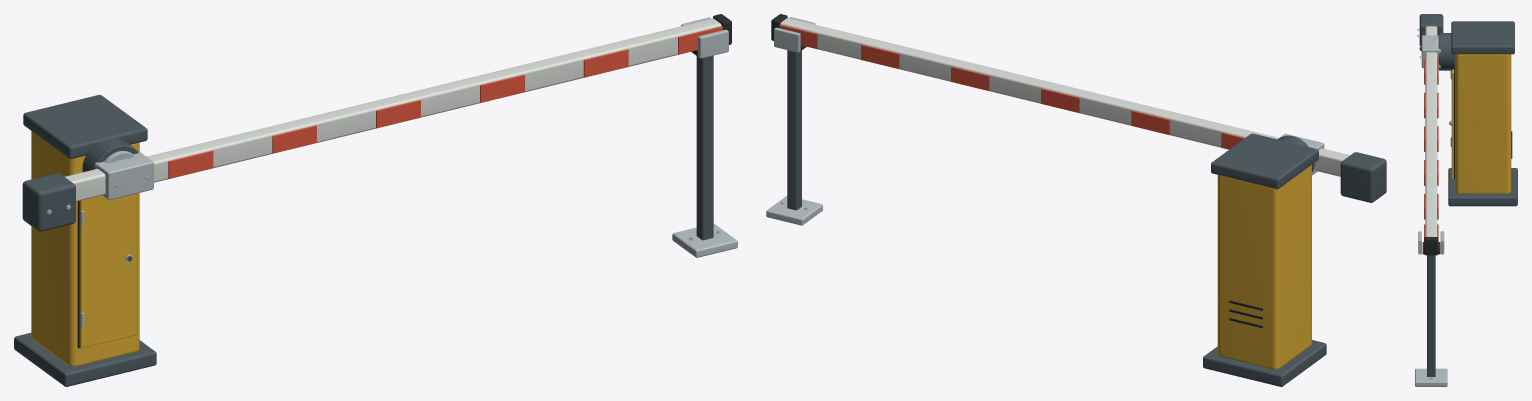
Rendered from city-parking-boom-gate.glb.
3 views of the same model, side by side, from view 1: azimuth 30°, elevation 25°; view 2: azimuth 150°, elevation 25°; view 3: azimuth 270°, elevation 25° (orthographic). The views are drawn at different scales.
Parts seen in each view (by area): view 1: Rectangular barrier boom, Gate motor cabinet, Gate service access folded metal panel, Motor cabinet weather cap, Receiving stand, Gate anchored base, Balanced arm tail, Arm pivot saddle, Receiving stand foot, Reflective boom band, Reflective boom band.004, Reflective boom band.001 (+4 smaller); view 2: Gate motor cabinet, Rectangular barrier boom, Motor cabinet weather cap, Receiving stand, Gate anchored base, Balanced arm tail, Receiving stand foot, Rear boom band.001, Rear boom band.002, Rear boom band.003, Rear boom band.004, Receiving cradle cheek.001; view 3: Gate motor cabinet, Rectangular barrier boom, Motor cabinet weather cap, Gate anchored base, Receiving stand, Main pivot housing, Receiving stand foot, Balanced arm tail, Arm pivot saddle, Gate service access folded metal panel, Boom tip cap, Receiving cradle cheek.001 (+1 smaller).
Boxes of the visible parts, x1,y1,x2,y2 form: Rectangular barrier boom: [64, 18, 721, 201]; Gate motor cabinet: [31, 131, 139, 366]; Gate service access folded metal panel: [79, 193, 136, 348]; Motor cabinet weather cap: [23, 94, 147, 158]; Receiving stand: [696, 55, 713, 240]; Gate anchored base: [14, 333, 156, 386]; Balanced arm tail: [22, 173, 75, 231]; Arm pivot saddle: [94, 152, 153, 200]; Receiving stand foot: [672, 224, 737, 257]; Reflective boom band: [168, 150, 213, 178]; Reflective boom band.004: [583, 49, 628, 77]; Reflective boom band.001: [272, 125, 316, 153]; Gate motor cabinet: [1217, 165, 1311, 369]; Rectangular barrier boom: [780, 18, 1349, 176]; Motor cabinet weather cap: [1211, 133, 1318, 189]; Receiving stand: [787, 50, 801, 210]; Gate anchored base: [1203, 340, 1326, 386]; Balanced arm tail: [1340, 152, 1386, 202]; Receiving stand foot: [766, 196, 822, 225]; Rear boom band.001: [1131, 110, 1170, 134]; Rear boom band.002: [1041, 88, 1079, 112]; Rear boom band.003: [951, 66, 989, 90]; Rear boom band.004: [861, 44, 899, 68]; Receiving cradle cheek.001: [774, 27, 800, 52]; Gate motor cabinet: [1455, 54, 1511, 193]; Rectangular barrier boom: [1425, 26, 1437, 236]; Motor cabinet weather cap: [1451, 21, 1514, 54]; Gate anchored base: [1448, 168, 1517, 206]; Receiving stand: [1427, 255, 1435, 376]; Main pivot housing: [1438, 33, 1454, 70]; Receiving stand foot: [1415, 368, 1447, 386]; Balanced arm tail: [1419, 14, 1443, 51]; Arm pivot saddle: [1421, 35, 1440, 68]; Gate service access folded metal panel: [1451, 69, 1453, 178]; Boom tip cap: [1424, 237, 1438, 255]; Receiving cradle cheek.001: [1440, 231, 1444, 254].
Bounding box in the file's own units: 3.62 × 1.18 × 0.695.
